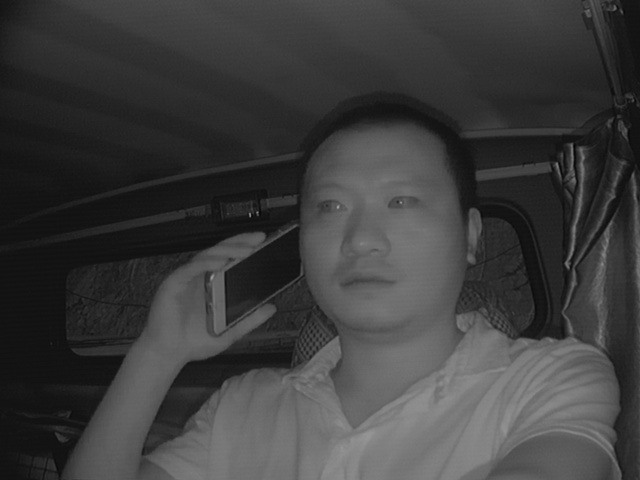hand: (152, 227, 269, 367)
